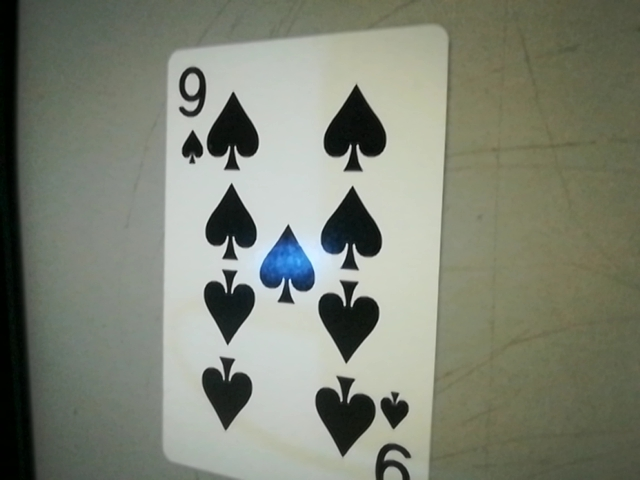ht 9: (163, 57, 215, 169), (367, 381, 425, 480)
